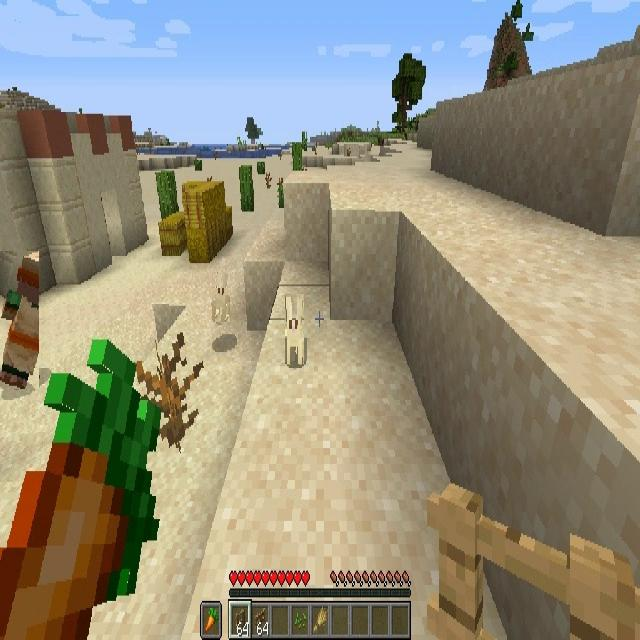people: (0, 251, 39, 389)
rabbit: (285, 294, 304, 364), (212, 270, 230, 322)
